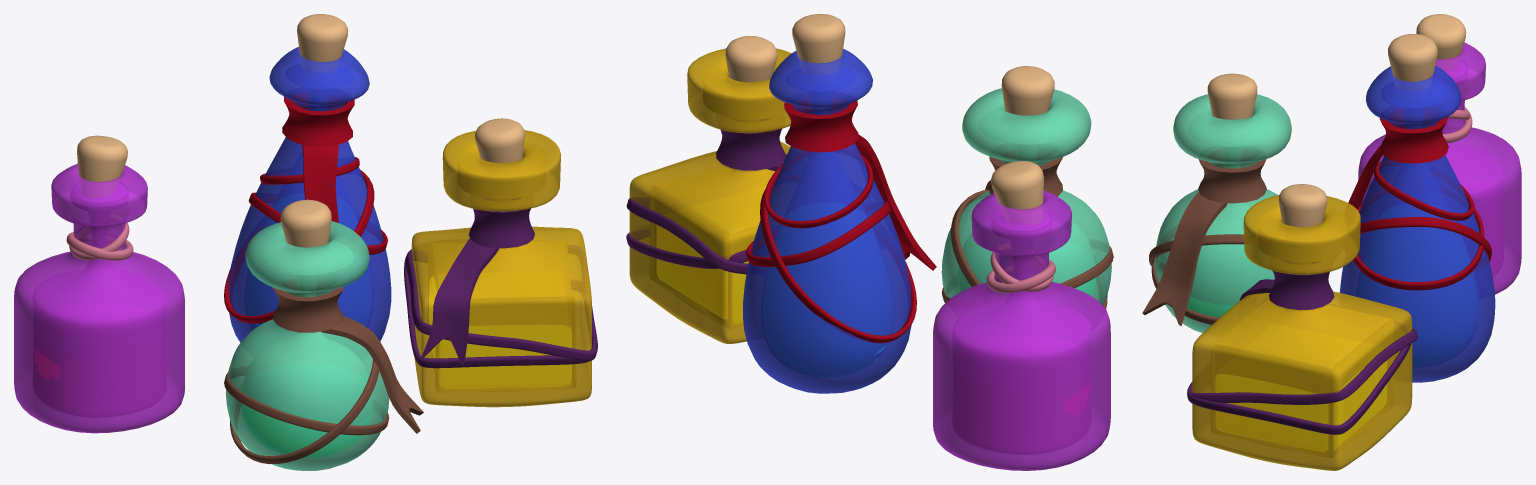
The picture shows the model from 3 angles, left to right: view 1: azimuth 30°, elevation 25°; view 2: azimuth 150°, elevation 25°; view 3: azimuth 270°, elevation 25°; orthographic projection. The views are drawn at different scales.
Parts seen in each view (by area): view 1: bottle.003, bottle.002, bottle, bottle.001, contents.003, strip2.002, strip1.001, strip1, ribbon2.004, cork.003, contents, ribbon2.003 (+13 smaller); view 2: bottle.003, bottle.001, bottle.002, bottle, contents.003, strip1.001, cork.003, ribbon1.001, cork.001, strip1.002, cork, cork.002 (+10 smaller); view 3: bottle.002, bottle.001, bottle, bottle.003, contents.003, strip2, strip1.001, strip1, ribbon2.004, ribbon2.003, cork.001, strip1.002 (+10 smaller).
Boxes of the visible parts, left/top/right/bottom form: bottle.003: left=14, top=163, right=184, bottom=433; bottle.002: left=411, top=130, right=591, bottom=407; bottle: left=225, top=221, right=389, bottom=470; bottle.001: left=228, top=47, right=391, bottom=342; contents.003: left=429, top=277, right=571, bottom=388; strip2.002: left=421, top=237, right=499, bottom=365; strip1.001: left=282, top=93, right=354, bottom=146; strip1: left=272, top=279, right=343, bottom=332; ribbon2.004: left=404, top=245, right=596, bottom=368; cork.003: left=77, top=135, right=127, bottom=197; contents: left=242, top=391, right=371, bottom=457; ribbon2.003: left=405, top=251, right=597, bottom=360; bottle.003: left=933, top=190, right=1110, bottom=470; bottle.001: left=743, top=49, right=911, bottom=393; bottle.002: left=629, top=48, right=791, bottom=343; bottle: left=941, top=88, right=1111, bottom=305; contents.003: left=657, top=225, right=747, bottom=323; strip1.001: left=784, top=97, right=858, bottom=152; cork.003: left=990, top=161, right=1043, bottom=223; ribbon1.001: left=760, top=176, right=916, bottom=343; cork.001: left=792, top=14, right=845, bottom=74; strip1.002: left=716, top=118, right=785, bottom=170; cork: left=1001, top=66, right=1054, bottom=115; cork.002: left=725, top=36, right=777, bottom=82; bottle.002: left=1192, top=195, right=1412, bottom=470; bottle.001: left=1339, top=65, right=1495, bottom=382; bottle: left=1154, top=94, right=1291, bottom=333; bottle.003: left=1358, top=42, right=1521, bottom=294; contents.003: left=1216, top=361, right=1386, bottom=451; strip2: left=1142, top=191, right=1228, bottom=326; strip1.001: left=1379, top=107, right=1448, bottom=163; strip1: left=1198, top=149, right=1266, bottom=203; ribbon2.004: left=1191, top=328, right=1417, bottom=404; ribbon2.003: left=1187, top=299, right=1411, bottom=434; cork.001: left=1388, top=33, right=1437, bottom=91; strip1.002: left=1269, top=261, right=1334, bottom=310.
Size of the model in its own units: 637 by 419 by 426.
